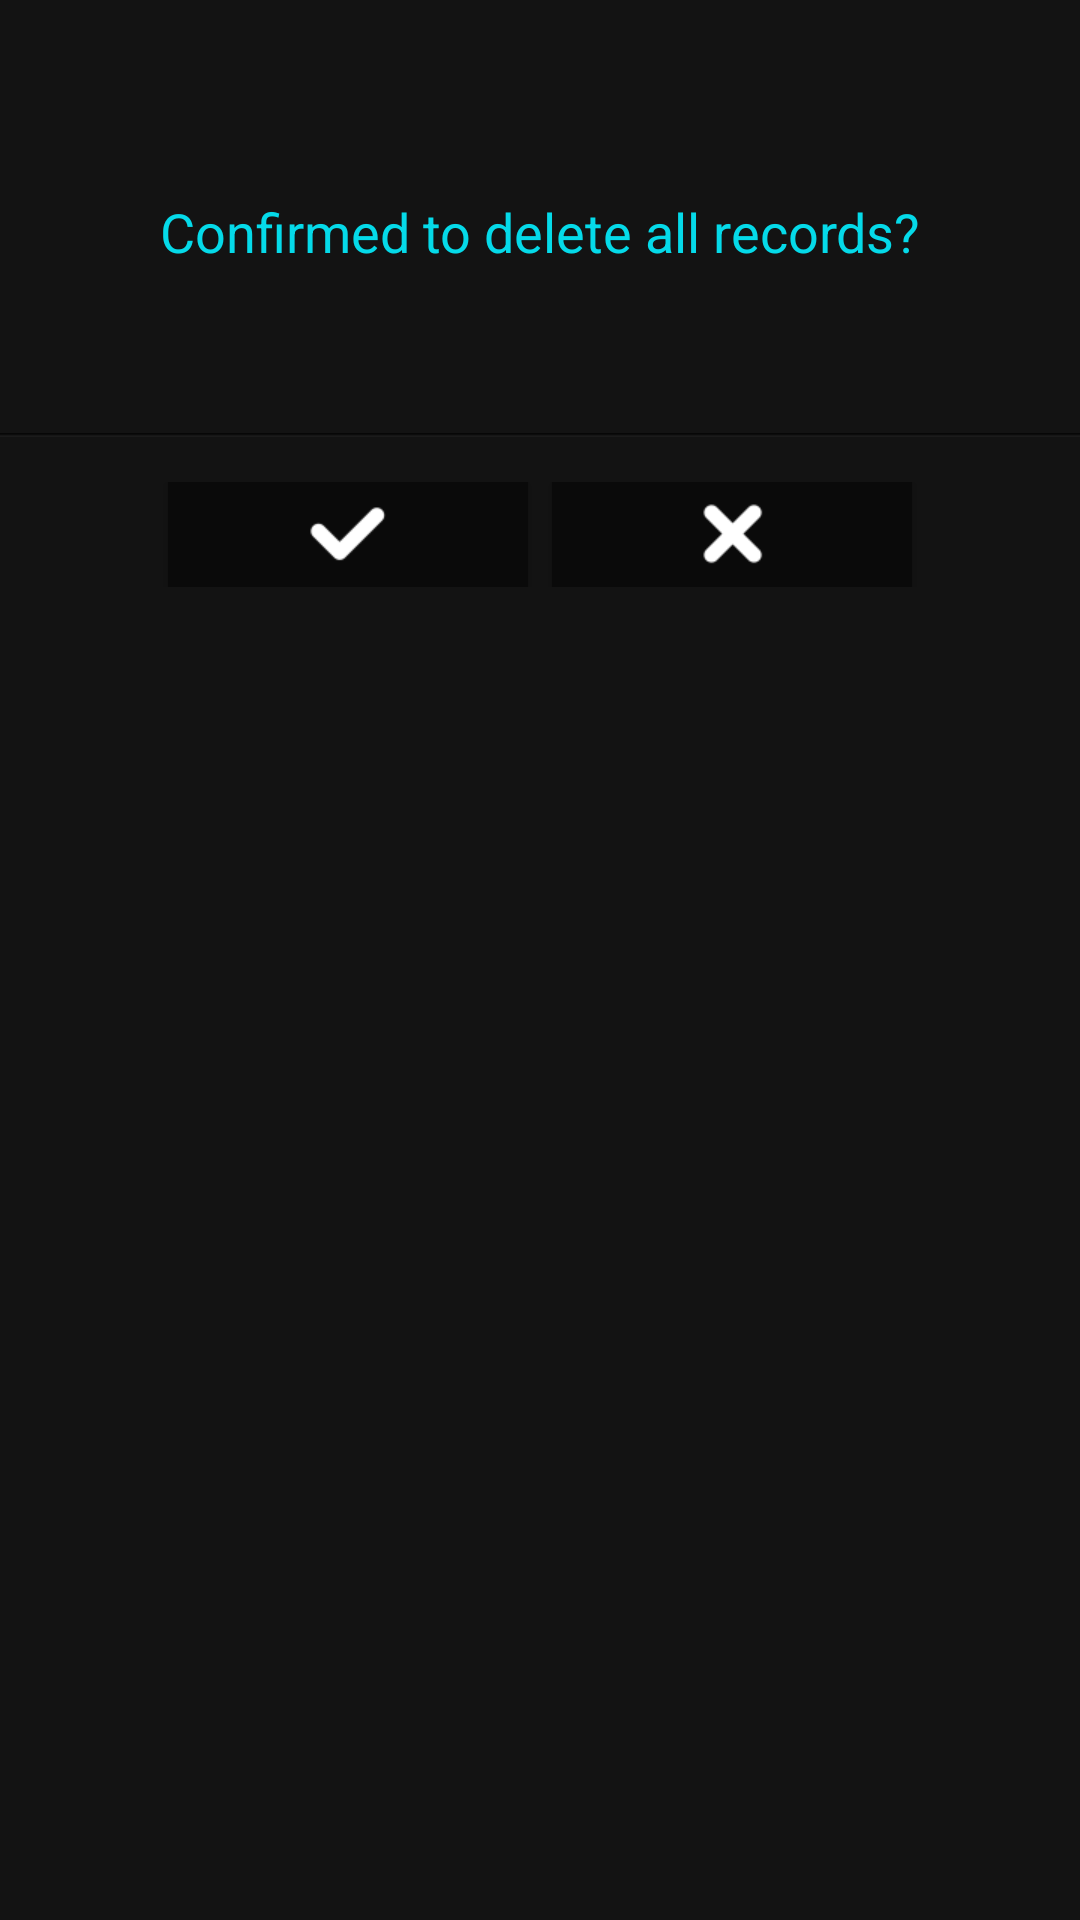

Screen size 1080 x 1920. Icon name, then its center in pixels as [x,y]:
setting dialog cancel: [732,533]
